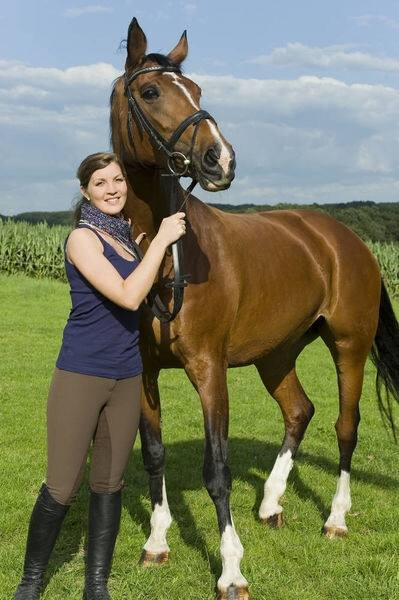person: (31, 146, 240, 600)
